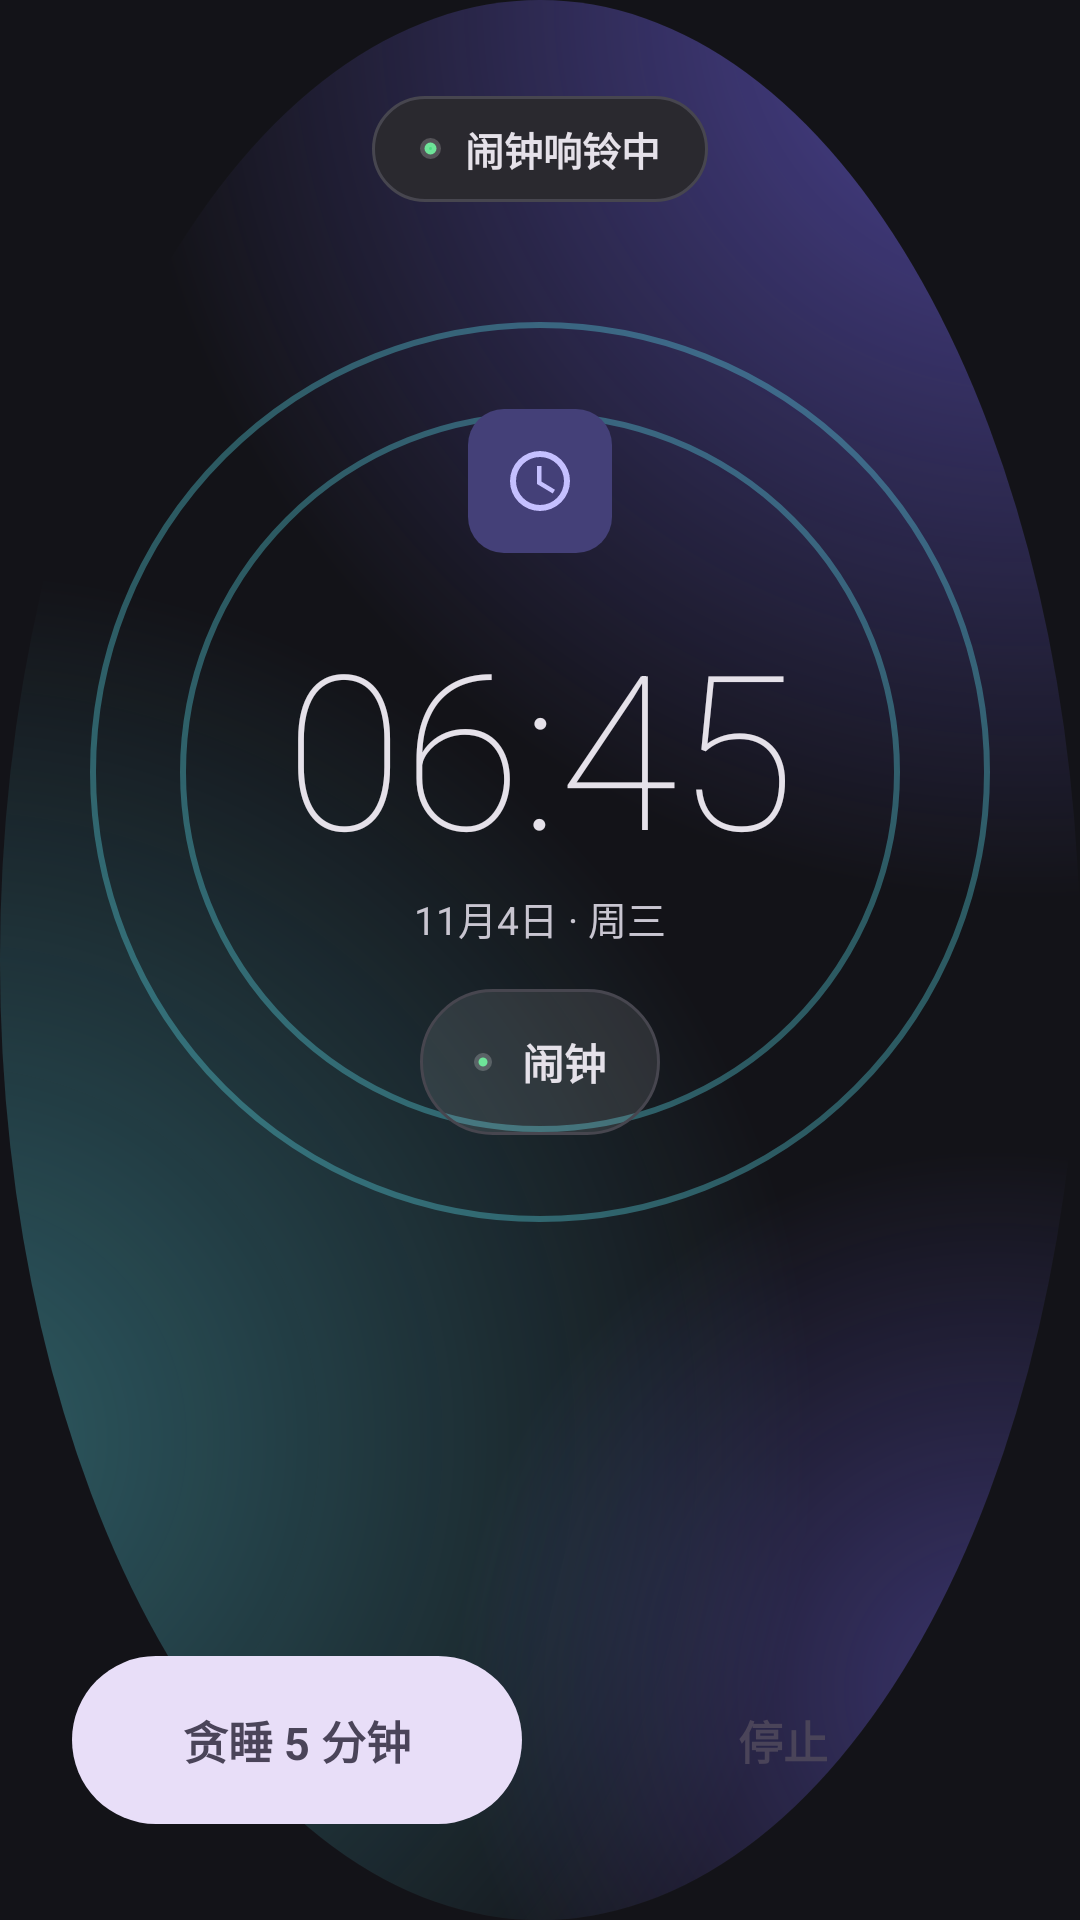

Screen size 1080px×1920px. Icon name, then its center in pixels as (x=x, y=y):
alarm: (x=540, y=481)
